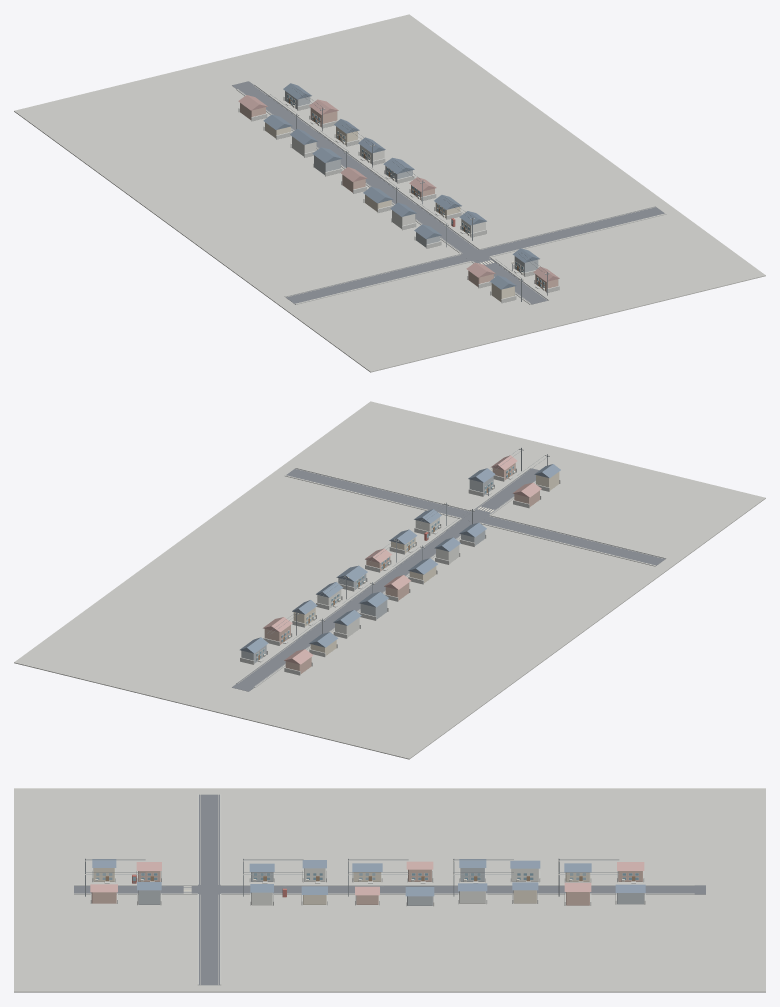
The model's file is residential_day_junction.glb.
3 renders of one model, top to bottom at view 1: azimuth 30°, elevation 25°; view 2: azimuth 150°, elevation 25°; view 3: azimuth 270°, elevation 25°, orthographic. The views are drawn at different scales.
Visible parts, largest first — view 1: Static.Pavement, Static.Roof, Branch.front.Asphalt, Static.Concrete, Branch.left.Asphalt, Branch.right.Asphalt, Static.Roof.pink, Static.Wall.peach, Static.Wall.silver, Static.Wall.cream, Static.Asphalt, Static.Wall.ivory (+4 smaller); view 2: Static.Pavement, Static.Roof, Branch.front.Asphalt, Static.Concrete, Branch.left.Asphalt, Branch.right.Asphalt, Static.Roof.pink, Static.Wall.peach, Static.Wall.silver, Static.Wall.cream, Static.Asphalt, Static.Wall.ivory (+3 smaller); view 3: Static.Pavement, Static.Roof, Branch.front.Asphalt, Branch.right.Asphalt, Branch.left.Asphalt, Static.Roof.pink, Static.Wall.peach, Static.Steel, Static.Wall.silver, Static.Wall.cream, Static.Wall.ivory, Static.Concrete (+7 smaller).
Part boxes in pixels (x1,y1,x2,y2): Static.Pavement: (14,14,765,372); Static.Roof: (263,83,539,289); Branch.front.Asphalt: (232,81,478,253); Static.Concrete: (238,96,559,304); Branch.left.Asphalt: (285,254,469,304); Branch.right.Asphalt: (481,206,664,256); Static.Roof.pink: (238,95,559,281); Static.Wall.peach: (240,103,558,291); Static.Wall.silver: (285,91,538,275); Static.Wall.cream: (265,122,514,301); Static.Asphalt: (461,249,547,304); Static.Wall.ivory: (292,136,485,236); Static.Pavement: (14,401,765,759); Static.Roof: (240,464,560,653); Branch.front.Asphalt: (232,519,476,691); Static.Concrete: (240,467,560,675); Branch.left.Asphalt: (481,516,665,565); Branch.right.Asphalt: (286,468,470,517); Static.Roof.pink: (263,455,541,664); Static.Wall.peach: (264,463,539,673); Static.Wall.silver: (241,476,493,663); Static.Wall.cream: (293,472,559,655); Static.Asphalt: (461,468,539,522); Static.Wall.ivory: (317,517,459,637); Static.Pavement: (14,788,765,992); Static.Roof: (92,859,645,896); Branch.front.Asphalt: (221,885,705,894); Branch.right.Asphalt: (199,894,219,985); Branch.left.Asphalt: (199,794,219,884); Static.Roof.pink: (90,861,644,895); Static.Wall.peach: (91,869,642,905); Static.Steel: (85,858,623,896); Static.Wall.silver: (138,868,644,905); Static.Wall.cream: (93,868,590,904); Static.Wall.ivory: (251,868,538,905); Static.Concrete: (74,869,645,906).
Bounding box in the file's own units: 64 × 3.73 × 100.
